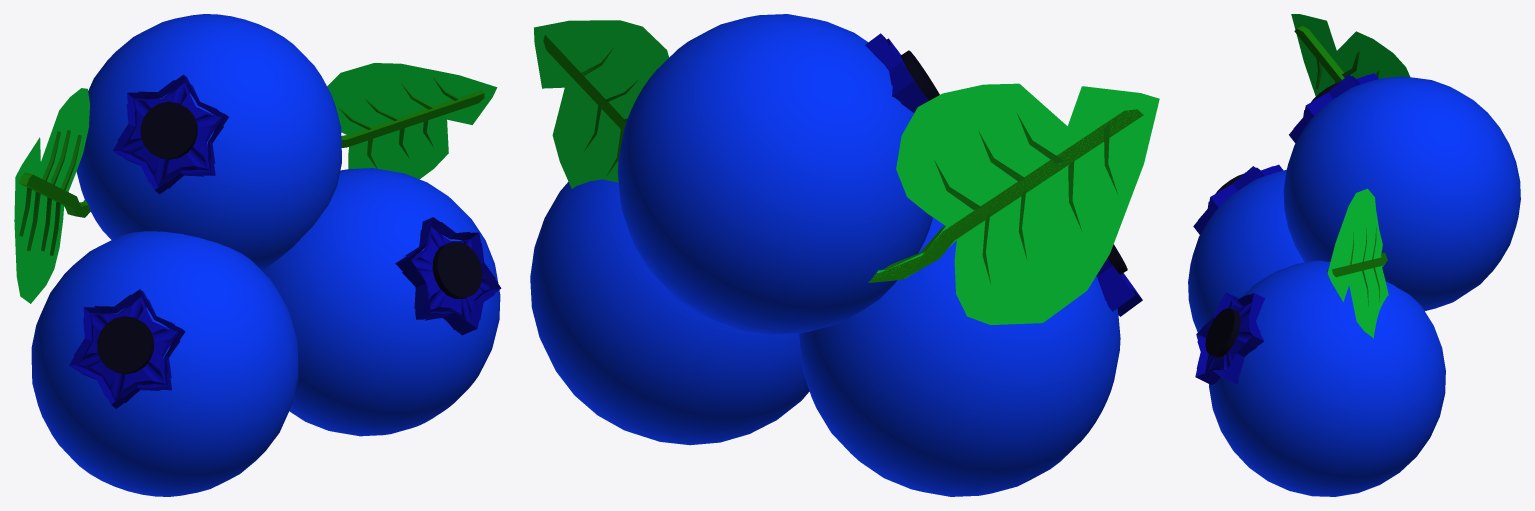
The model's file is blueberry.FBX.
3 views of the same model, side by side, from view 1: azimuth 30°, elevation 25°; view 2: azimuth 150°, elevation 25°; view 3: azimuth 270°, elevation 25° (orthographic). The views are drawn at different scales.
Parts seen in each view (by area): view 1: Sphere029, Sphere030, Sphere028, Line050, Line041, Star003, Star002, Star001, Cylinder008, Cylinder007, Cylinder006, Line051 (+1 smaller); view 2: Sphere030, Sphere029, Sphere028, Line041, Line050, Line042, Star003, Star002, Line051, Cylinder008; view 3: Sphere028, Sphere030, Sphere029, Line050, Line041, Star001, Cylinder006, Star003, Star002, Line042, Line051.
Boxes of the visible parts, left/top/right/bottom form: Sphere029: left=31, top=231, right=298, bottom=496; Sphere030: left=76, top=14, right=341, bottom=270; Sphere028: left=262, top=168, right=500, bottom=436; Line050: left=327, top=63, right=497, bottom=179; Line041: left=14, top=88, right=89, bottom=303; Star003: left=113, top=74, right=228, bottom=194; Star002: left=69, top=289, right=185, bottom=408; Star001: left=395, top=217, right=501, bottom=335; Cylinder008: left=140, top=101, right=197, bottom=159; Cylinder007: left=97, top=316, right=153, bottom=374; Cylinder006: left=432, top=241, right=482, bottom=298; Line051: left=341, top=89, right=484, bottom=147; Sphere030: left=617, top=14, right=932, bottom=334; Sphere029: left=799, top=217, right=1120, bottom=496; Sphere028: left=530, top=179, right=809, bottom=445; Line041: left=874, top=83, right=1159, bottom=324; Line050: left=534, top=20, right=668, bottom=188; Line042: left=868, top=109, right=1143, bottom=282; Star003: left=865, top=33, right=929, bottom=112; Star002: left=1096, top=258, right=1142, bottom=316; Line051: left=543, top=35, right=626, bottom=131; Cylinder008: left=901, top=50, right=939, bottom=100; Sphere028: left=1209, top=260, right=1445, bottom=496; Sphere030: left=1283, top=76, right=1520, bottom=310; Sphere029: left=1188, top=170, right=1304, bottom=332; Line050: left=1327, top=188, right=1388, bottom=338; Line041: left=1291, top=14, right=1410, bottom=96; Star001: left=1195, top=292, right=1265, bottom=384; Cylinder006: left=1205, top=308, right=1240, bottom=357; Star003: left=1289, top=73, right=1378, bottom=143; Star002: left=1193, top=164, right=1283, bottom=234; Line042: left=1294, top=26, right=1344, bottom=82; Line051: left=1327, top=252, right=1387, bottom=277.
Bounding box in the file's own units: 10.09 × 7.56 × 6.54.
